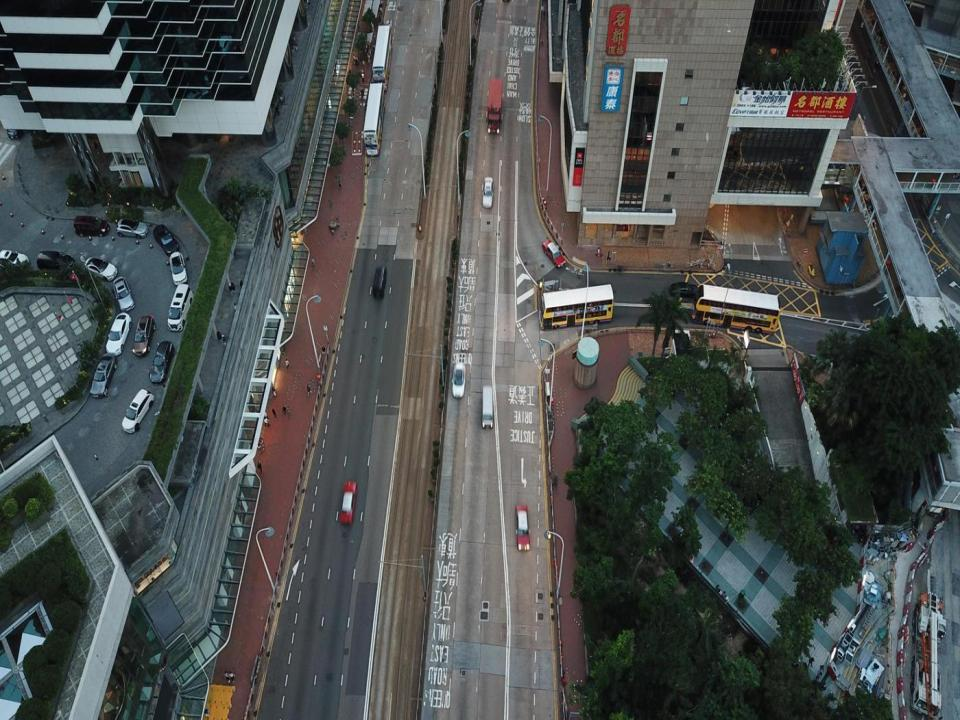bus: (694, 285, 780, 332), (541, 284, 613, 329), (363, 82, 386, 154), (372, 24, 394, 85)
car: (102, 312, 132, 358), (122, 389, 154, 432), (89, 352, 116, 397), (148, 342, 176, 384), (132, 315, 155, 359), (339, 478, 358, 528), (82, 255, 118, 281), (152, 222, 179, 256), (514, 503, 532, 551), (111, 276, 134, 313), (541, 238, 566, 267), (168, 250, 188, 285), (116, 216, 147, 238), (0, 250, 28, 274), (6, 106, 23, 142), (669, 280, 699, 300), (452, 363, 465, 399), (483, 176, 493, 209)
truck: (488, 77, 502, 137)
van: (166, 282, 195, 330), (38, 250, 77, 276), (74, 214, 110, 238), (480, 384, 493, 430), (370, 265, 386, 301)
